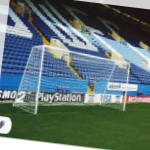goals: (13, 44, 132, 119)
